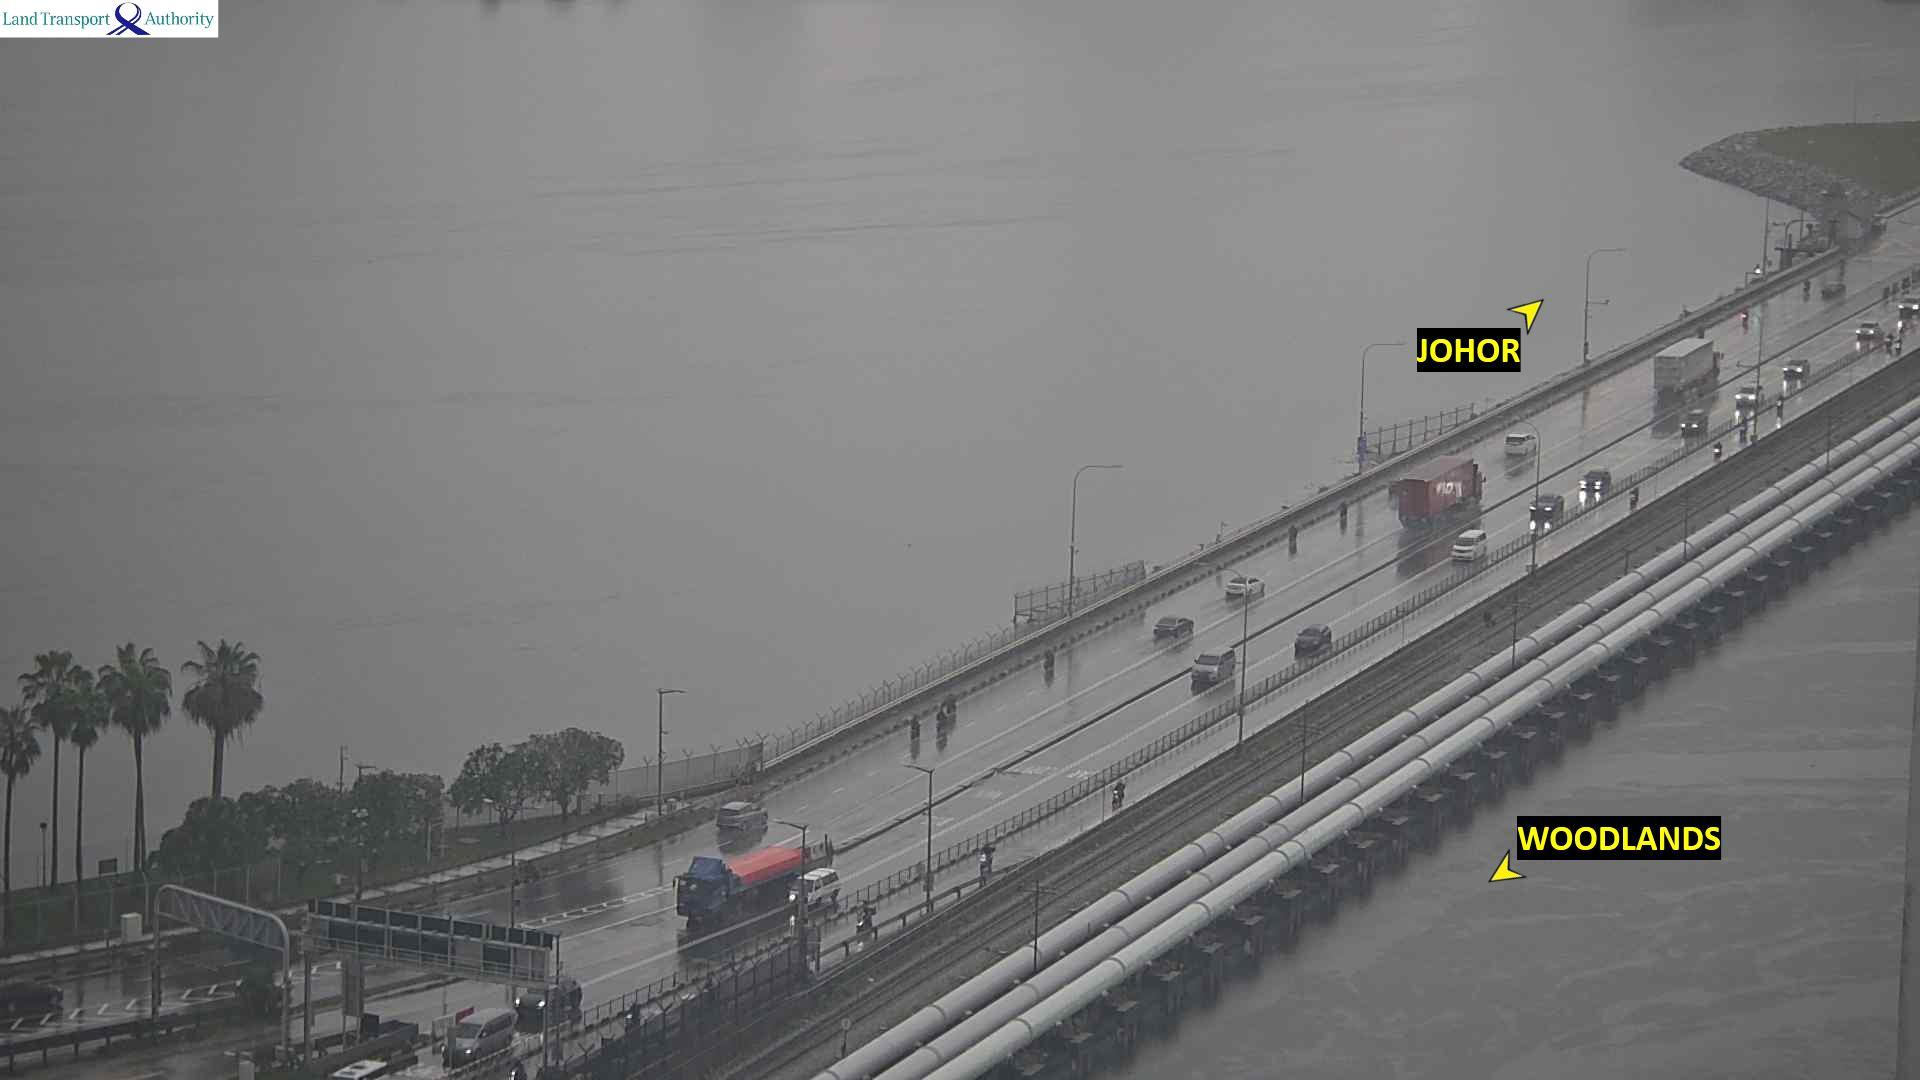vehicle-causeway-johor: (1402, 456, 1484, 512), (1658, 339, 1722, 397), (717, 803, 769, 833), (1497, 431, 1539, 462), (1226, 574, 1267, 603), (1150, 615, 1195, 641), (1818, 282, 1846, 302), (1040, 650, 1055, 675), (1734, 306, 1750, 327), (935, 708, 949, 729), (1287, 521, 1298, 546), (907, 712, 916, 740), (947, 695, 957, 716), (1804, 277, 1812, 293), (1341, 501, 1349, 514)
vehicle-causeway-singapore: (695, 819, 836, 915), (450, 1006, 509, 1058), (529, 978, 600, 1021), (0, 976, 62, 1017), (1200, 647, 1250, 684), (331, 1058, 393, 1080), (1452, 527, 1486, 562), (1295, 621, 1328, 655), (1528, 489, 1557, 516), (1584, 471, 1609, 500), (1737, 384, 1763, 406), (1684, 407, 1705, 434), (1783, 356, 1808, 377), (1855, 323, 1880, 340), (1900, 294, 1920, 313), (1709, 439, 1722, 465), (1739, 415, 1749, 438), (1629, 489, 1639, 506), (1778, 394, 1784, 418), (1894, 336, 1902, 355)
